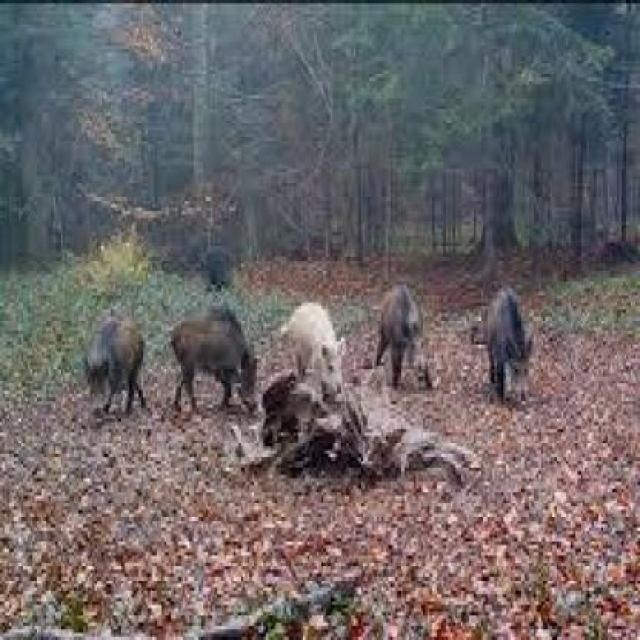Wild Boar: (166, 304, 264, 429), (81, 307, 150, 428), (280, 296, 350, 410), (368, 282, 434, 398), (480, 282, 538, 408)
